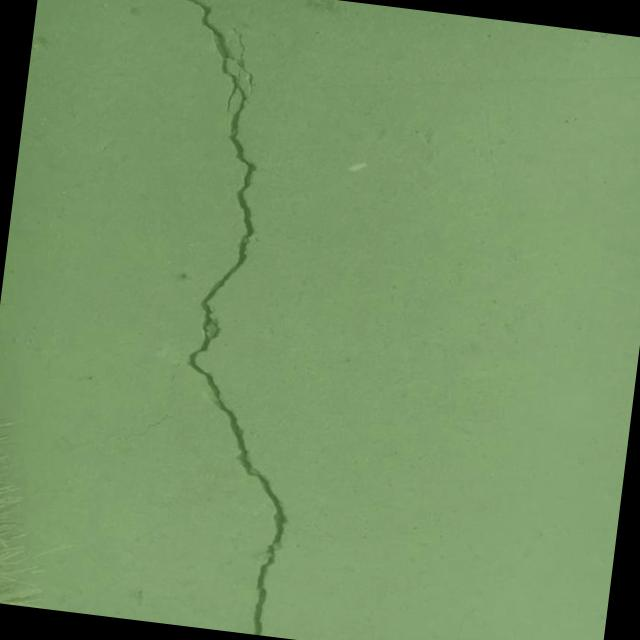crack: (73, 0, 352, 637), (116, 408, 210, 450), (0, 421, 71, 442)
